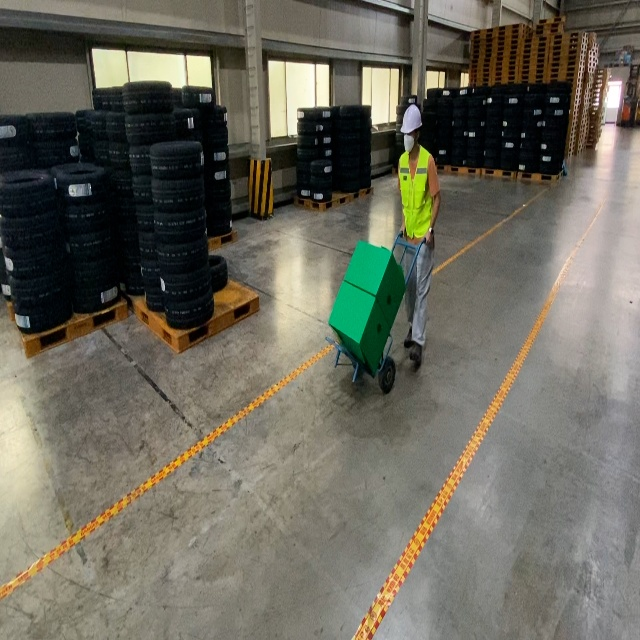Box: (328, 280, 391, 377), (343, 240, 406, 330)
Worker: (397, 104, 441, 367)
